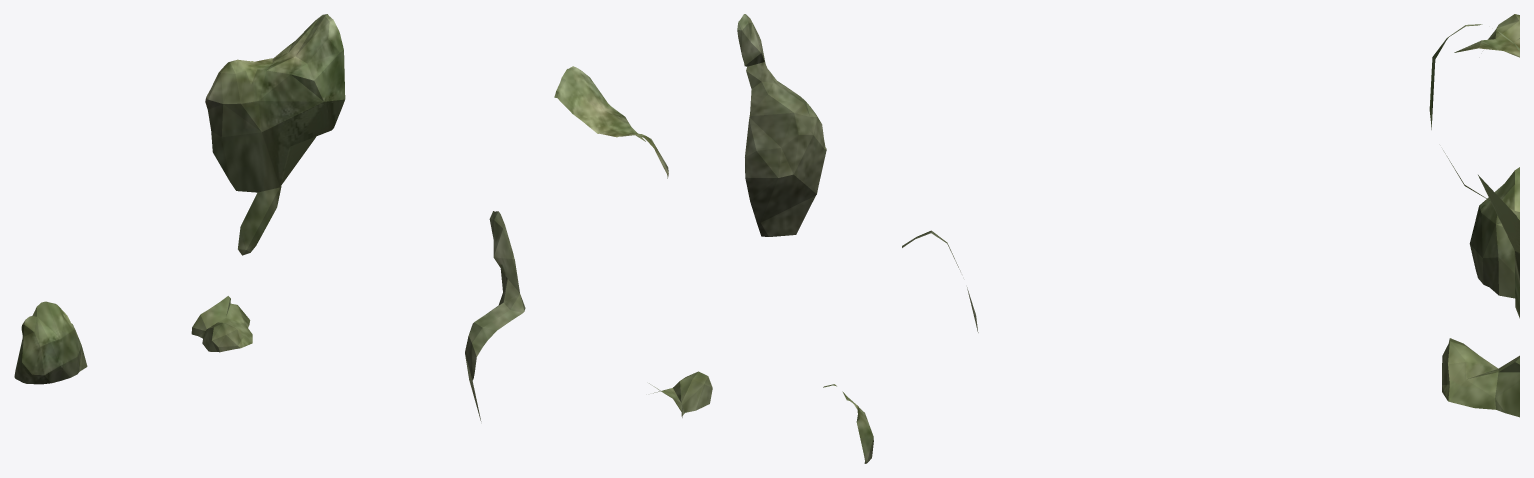
3 renders of one model, left to right at view 1: azimuth 30°, elevation 25°; view 2: azimuth 150°, elevation 25°; view 3: azimuth 270°, elevation 25°, orthographic. The views are drawn at different scales.
Size of the model in its own units: 2.44 by 2.32 by 2.95.
1 material, 1 textured.
